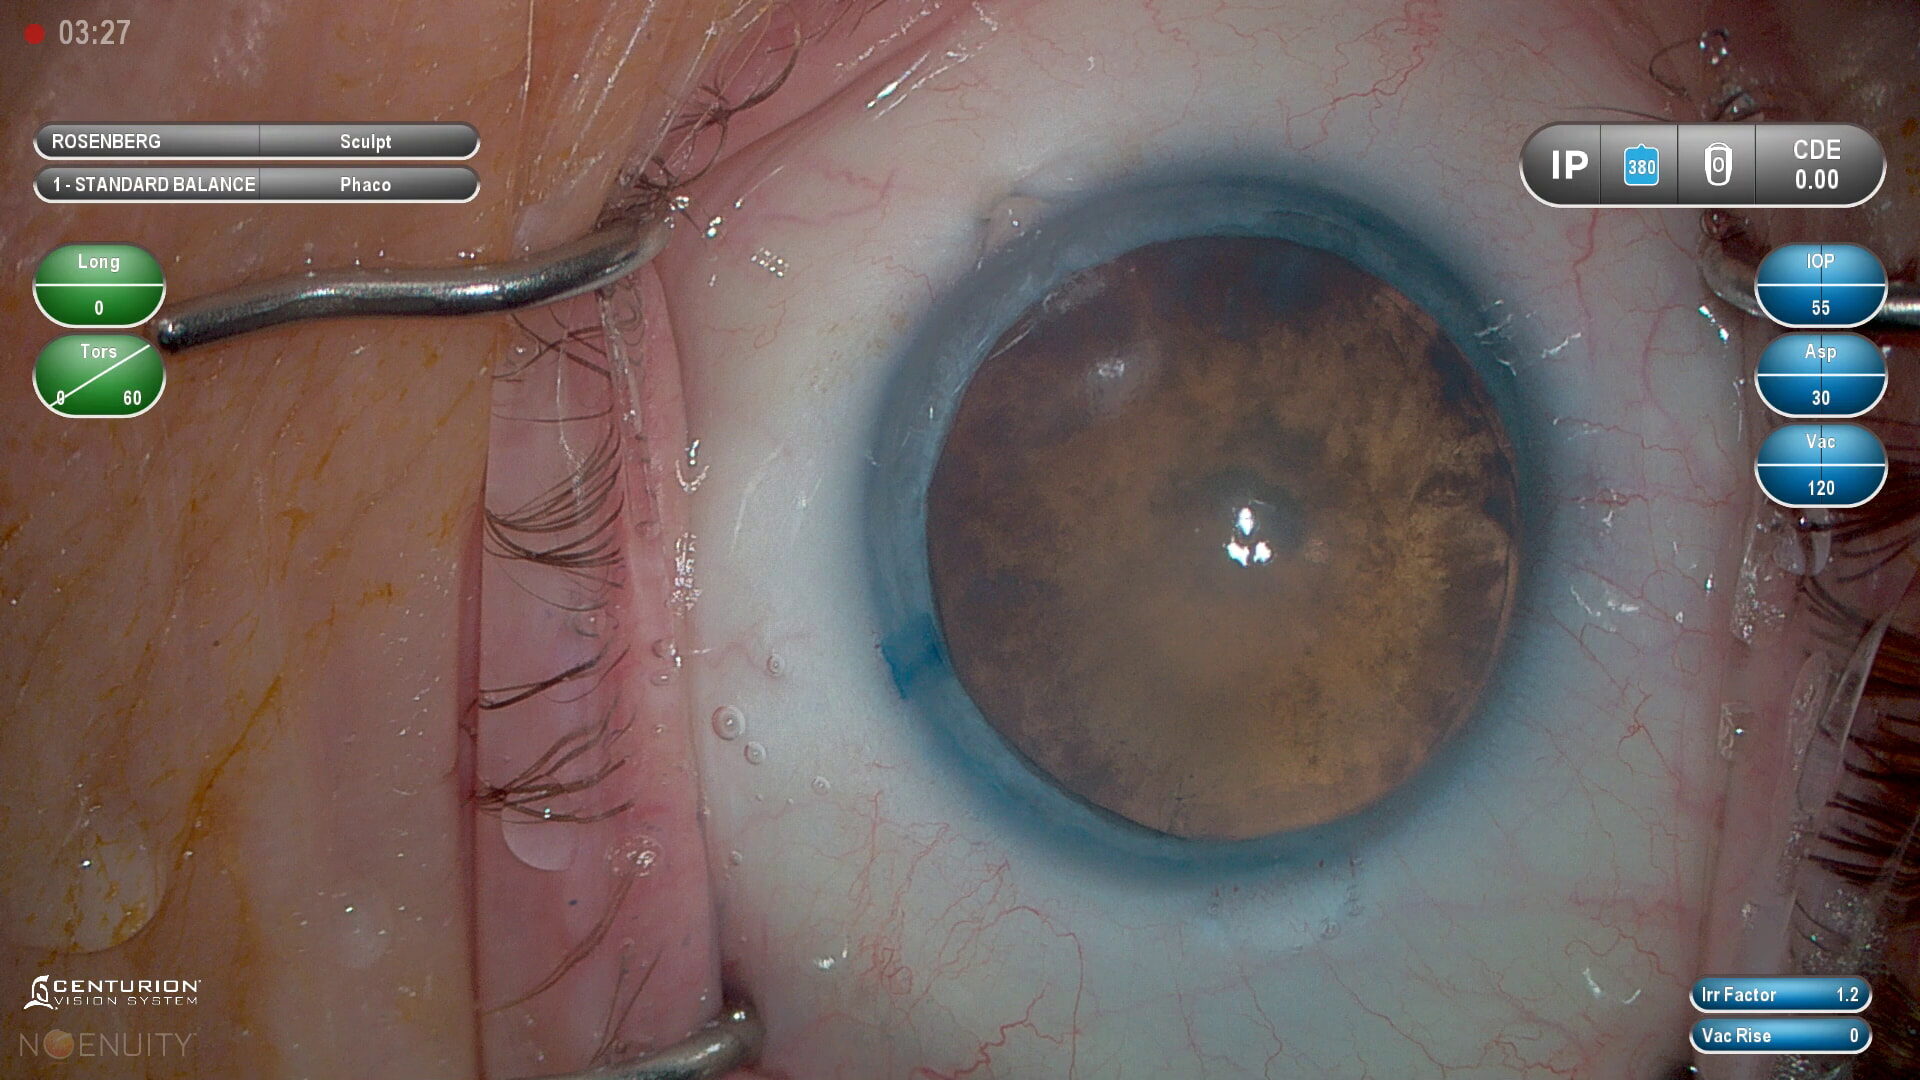iris: (871, 177, 1564, 889)
pupil: (928, 231, 1528, 843)
